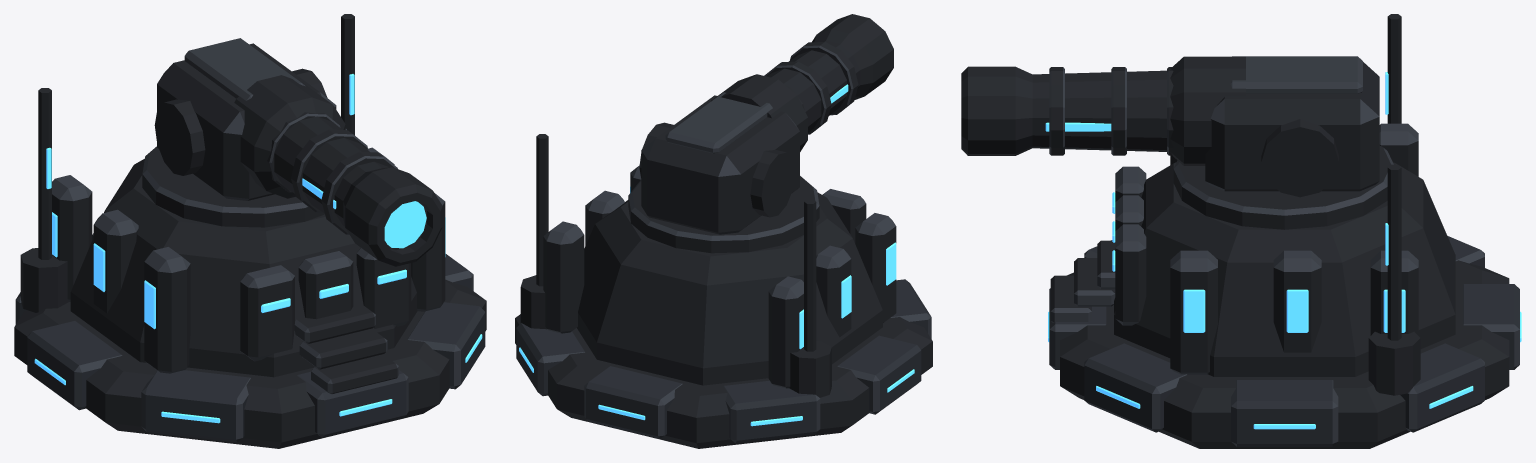
The model's file is bastion.glb.
3 renders of one model, left to right at view 1: azimuth 30°, elevation 25°; view 2: azimuth 150°, elevation 25°; view 3: azimuth 270°, elevation 25°, orthographic. The views are drawn at different scales.
Parts seen in each view (by area): view 1: BASTION; view 2: BASTION; view 3: BASTION.
Boxes of the visible parts, x1,y1,x2,y2 form: BASTION: (14, 14, 486, 448); BASTION: (515, 14, 932, 448); BASTION: (961, 14, 1521, 448).
Size of the model in its own units: 3.66 by 2.56 by 4.33.
